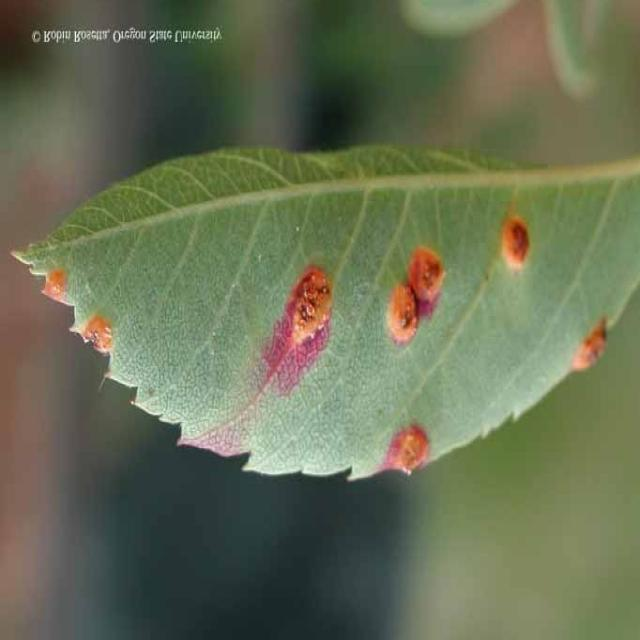Gymnosporangium_Rusts: (11, 145, 636, 483)
